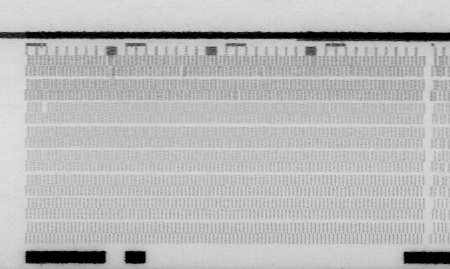Broken hole: (40, 101, 51, 115)
Oblique printing: (432, 161, 450, 198), (432, 51, 450, 80), (102, 54, 121, 80), (176, 65, 190, 78), (230, 89, 244, 101), (307, 52, 318, 67), (256, 65, 268, 78)
